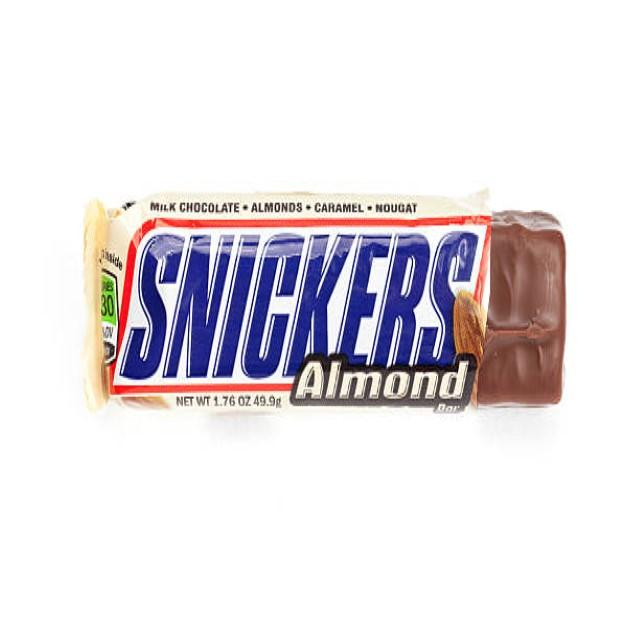snickers_chocolate: (103, 197, 517, 410)
